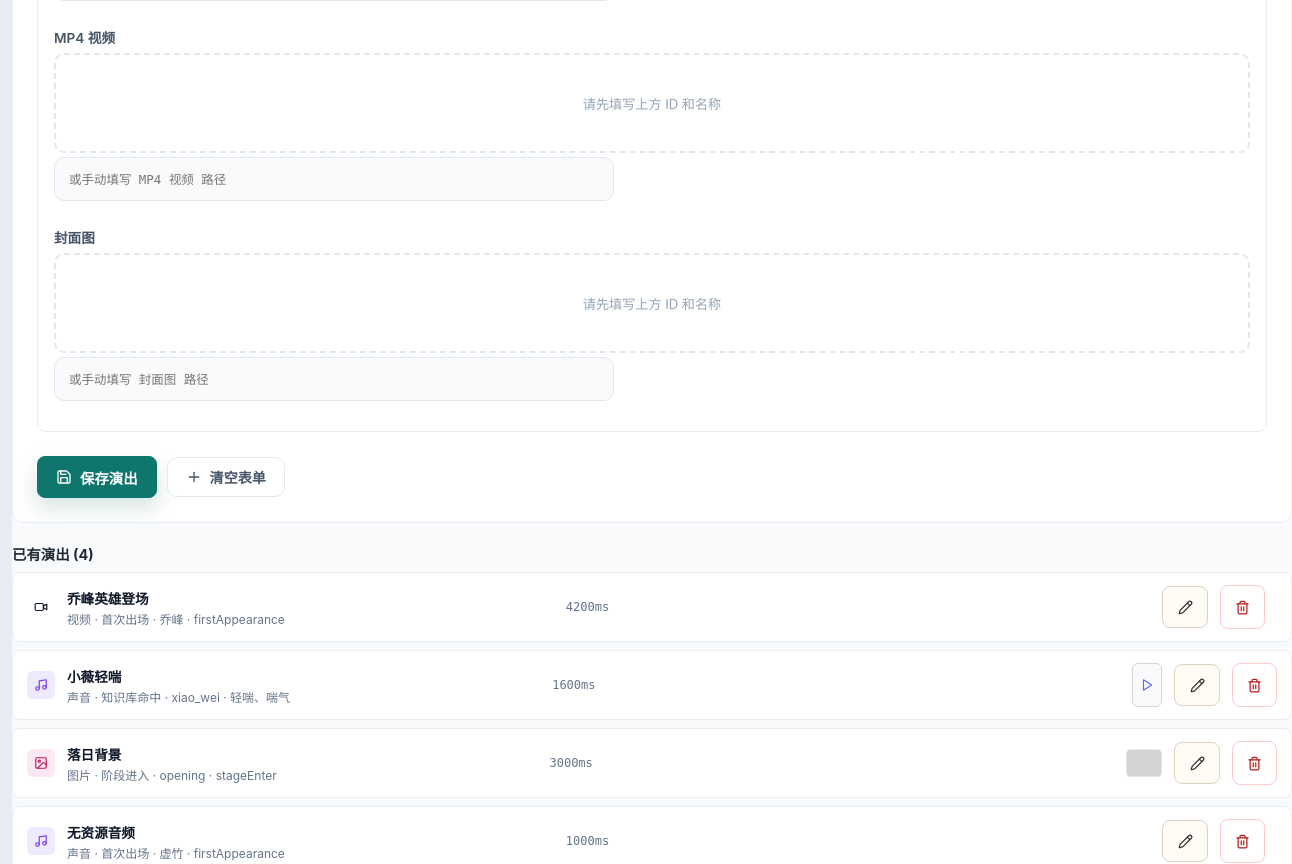
Test: PerformanceConfigPanel › edit › highlights the row being edited
(page scrolled)
Step 1. Click the button named "编辑演出" in the row of "4200" → click(1185, 607), box [1162, 586, 1208, 628]
(page scrolled)
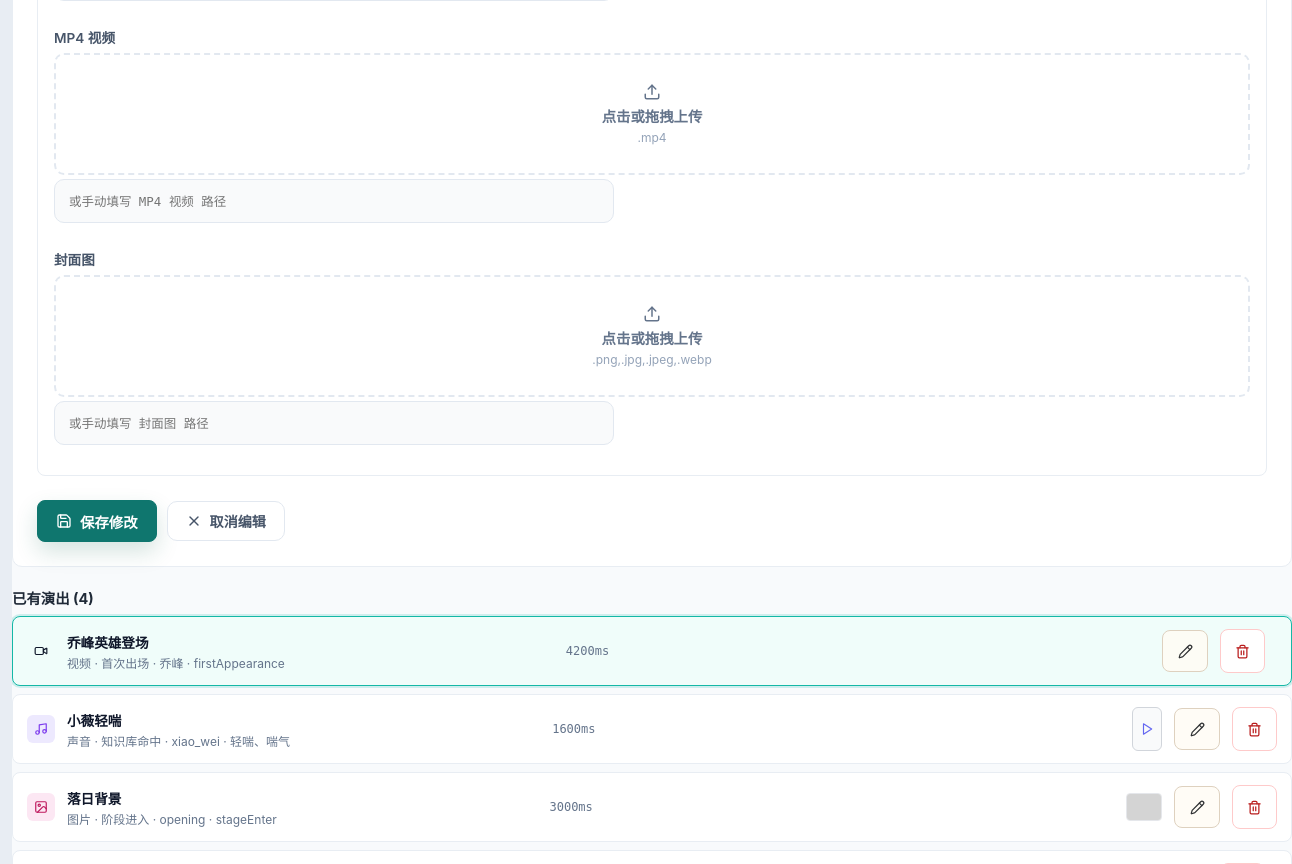
Now the element with class "editing" is shown, box [12, 616, 1291, 686]
